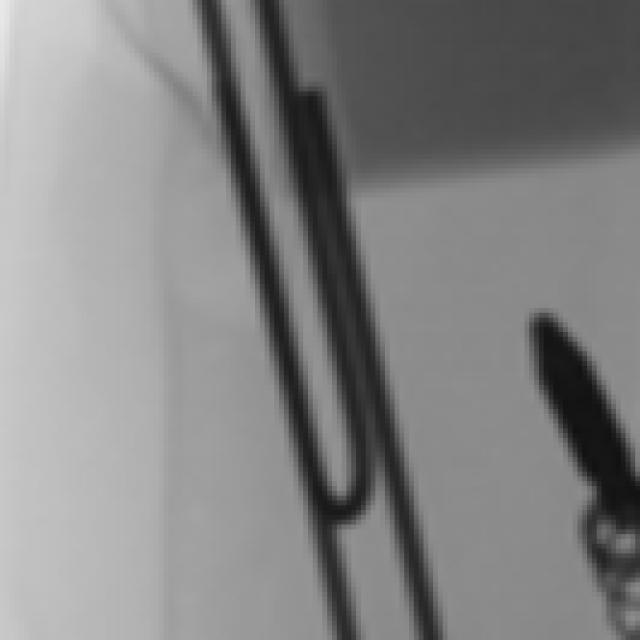GUN: (539, 308, 633, 504)
